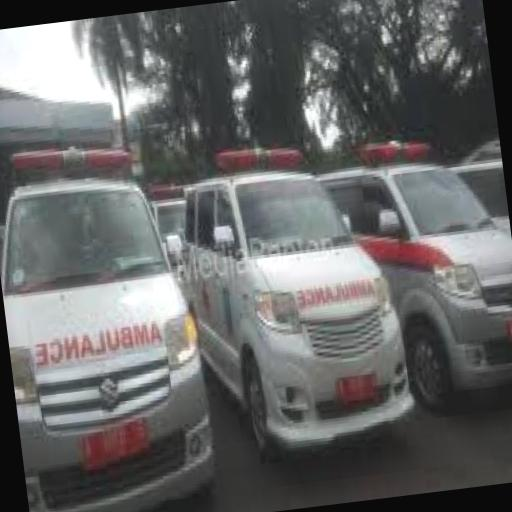Police car: (0, 131, 217, 512)
